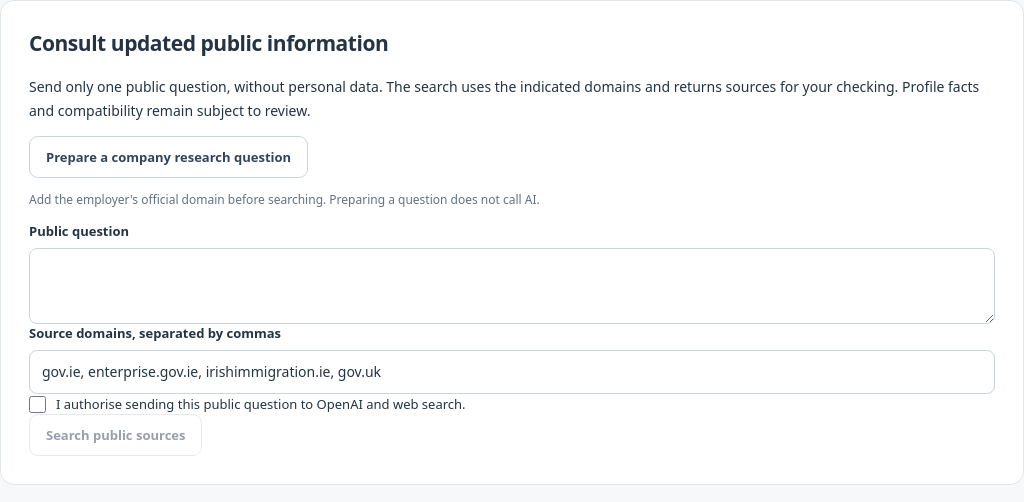
Scenario: requires renewed consent after changing a public research question
Expected: the button "Search public sources" is disabled, [29,414,202,456]
In the text box labelled "Public question": (512, 286) [29,248,995,324], type "Where are the current permit rules?"
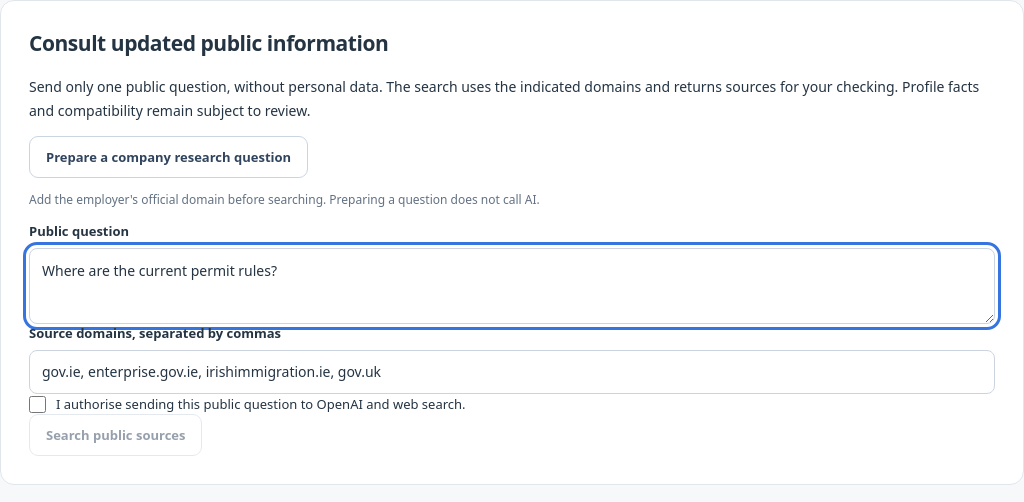
Click the checkbox: click(38, 404) [29,396,46,412]
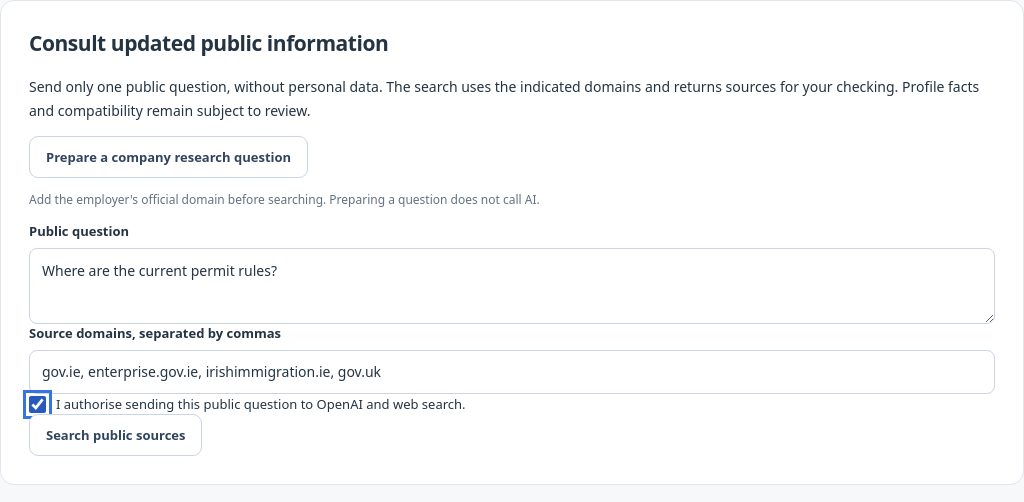
Expected: the button "Search public sources" is enabled, [29,414,202,456]
In the text box labelled "Public question": (512, 286) [29,248,995,324], type " New text"
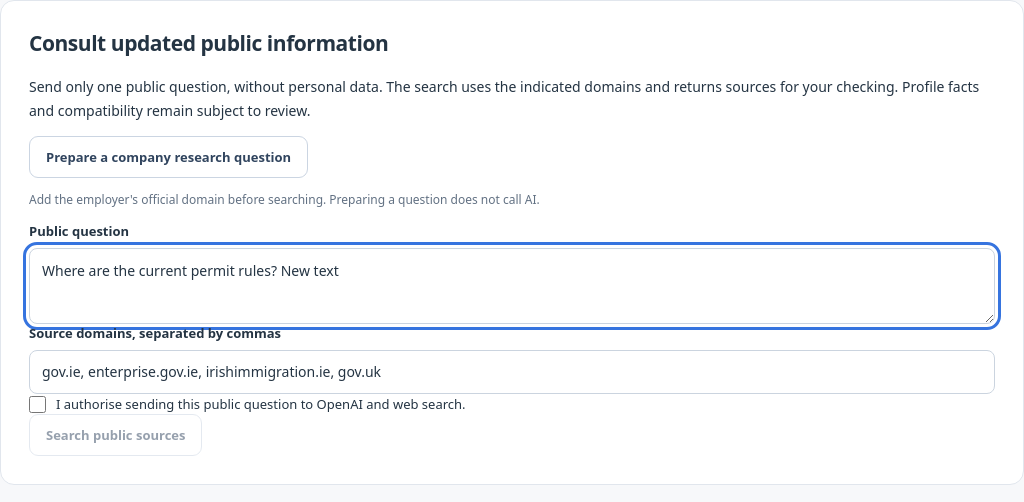
Expected: the button "Search public sources" is disabled, [29,414,202,456]
